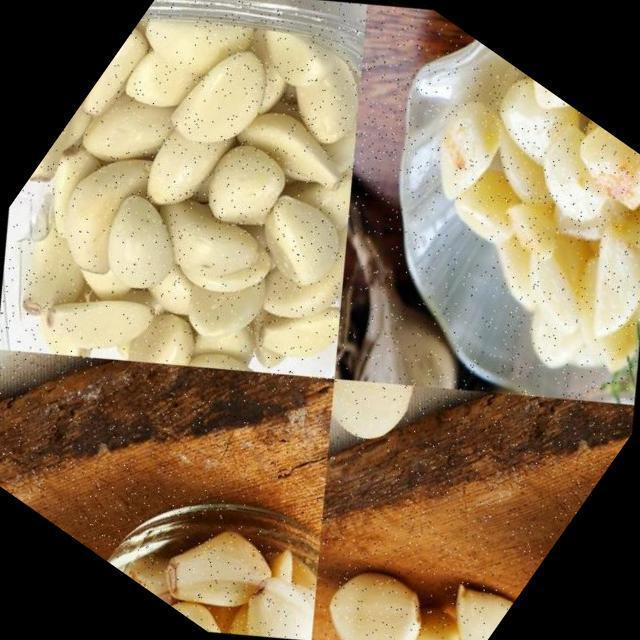garlic: (0, 0, 501, 515), (268, 15, 640, 475), (86, 433, 359, 640), (293, 206, 520, 434), (291, 513, 492, 640), (304, 344, 444, 482), (421, 544, 530, 640)
